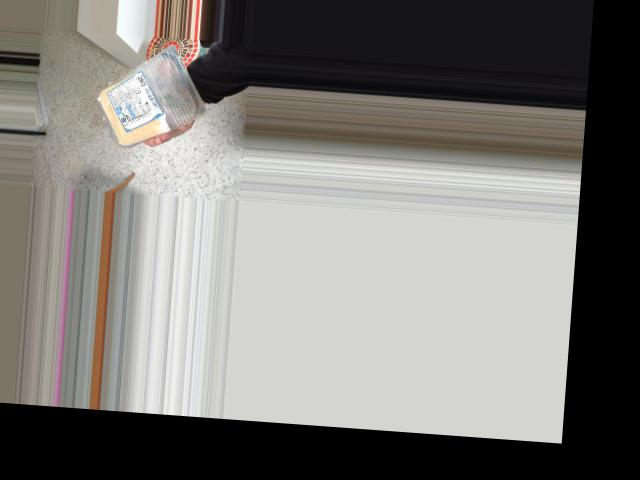cheese: (91, 49, 199, 145)
